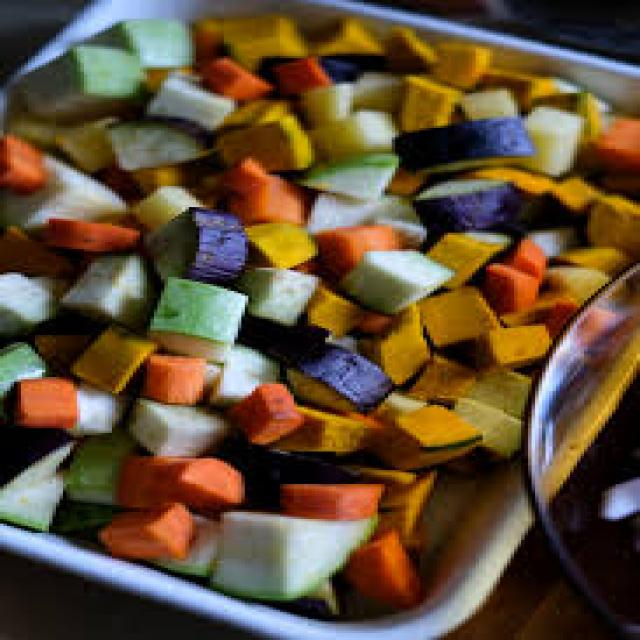organic waste: (206, 505, 385, 600), (220, 428, 360, 510), (21, 40, 147, 112), (0, 151, 126, 221), (140, 202, 238, 282), (339, 247, 455, 314), (314, 324, 398, 416), (388, 116, 528, 170), (0, 435, 77, 533), (56, 249, 154, 326), (147, 275, 238, 356), (374, 398, 479, 461), (301, 184, 423, 237), (346, 521, 420, 605), (126, 393, 227, 454), (409, 175, 525, 228), (66, 316, 150, 388), (101, 116, 217, 166), (59, 428, 133, 501), (133, 510, 220, 572), (94, 498, 189, 554), (416, 286, 500, 347), (297, 147, 399, 196), (273, 475, 381, 521), (143, 74, 234, 128), (144, 452, 242, 502), (24, 111, 109, 168), (217, 9, 301, 65), (364, 302, 430, 372), (217, 114, 301, 168), (311, 219, 399, 270), (234, 265, 315, 319), (112, 12, 196, 62), (280, 400, 357, 454), (227, 382, 294, 444), (378, 468, 437, 538), (217, 166, 294, 217), (514, 112, 577, 174), (542, 261, 626, 307), (395, 352, 472, 402), (423, 230, 497, 282), (238, 216, 318, 263), (454, 396, 518, 454), (210, 340, 269, 402), (42, 212, 140, 249), (472, 321, 549, 368), (528, 84, 598, 135), (0, 270, 59, 328), (577, 111, 637, 168), (0, 223, 66, 274), (479, 256, 539, 312), (577, 191, 637, 247), (14, 375, 77, 428), (395, 72, 455, 126), (143, 349, 203, 403), (476, 65, 556, 105), (311, 116, 395, 154), (308, 14, 374, 60), (546, 238, 630, 274), (532, 305, 612, 342), (200, 54, 262, 100), (300, 280, 356, 330), (290, 573, 350, 619), (465, 368, 525, 414), (129, 179, 196, 219), (70, 377, 119, 431), (434, 38, 486, 88), (0, 335, 45, 391), (539, 172, 605, 210), (349, 63, 398, 112), (294, 77, 346, 123), (39, 93, 130, 119), (273, 56, 329, 98), (381, 23, 430, 70), (336, 458, 409, 489), (0, 128, 38, 186), (500, 233, 542, 284), (349, 72, 392, 121), (126, 158, 185, 189), (210, 158, 262, 193), (7, 96, 49, 138), (39, 330, 94, 361), (49, 502, 108, 530), (458, 86, 511, 116), (374, 386, 416, 422), (192, 9, 224, 54), (314, 51, 364, 79), (465, 163, 525, 184), (511, 230, 549, 263), (507, 175, 553, 202)
